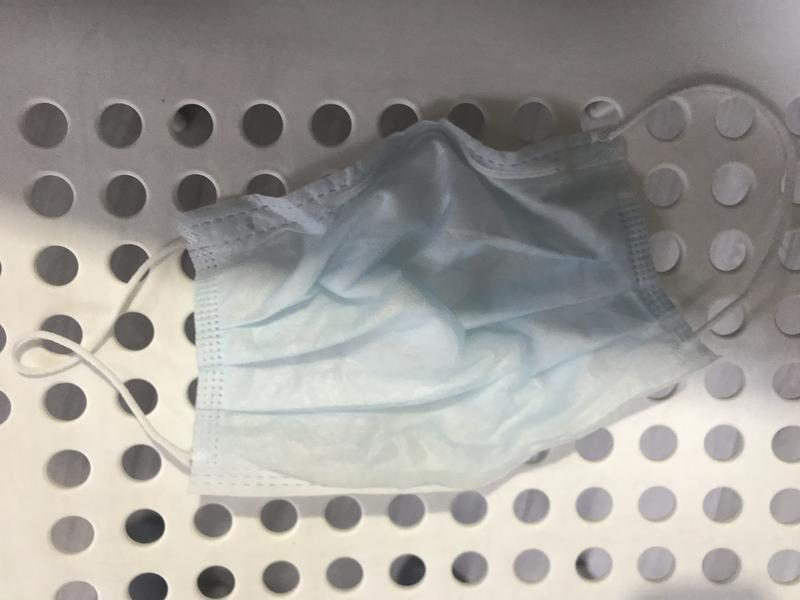medical_mask: (10, 77, 794, 492)
